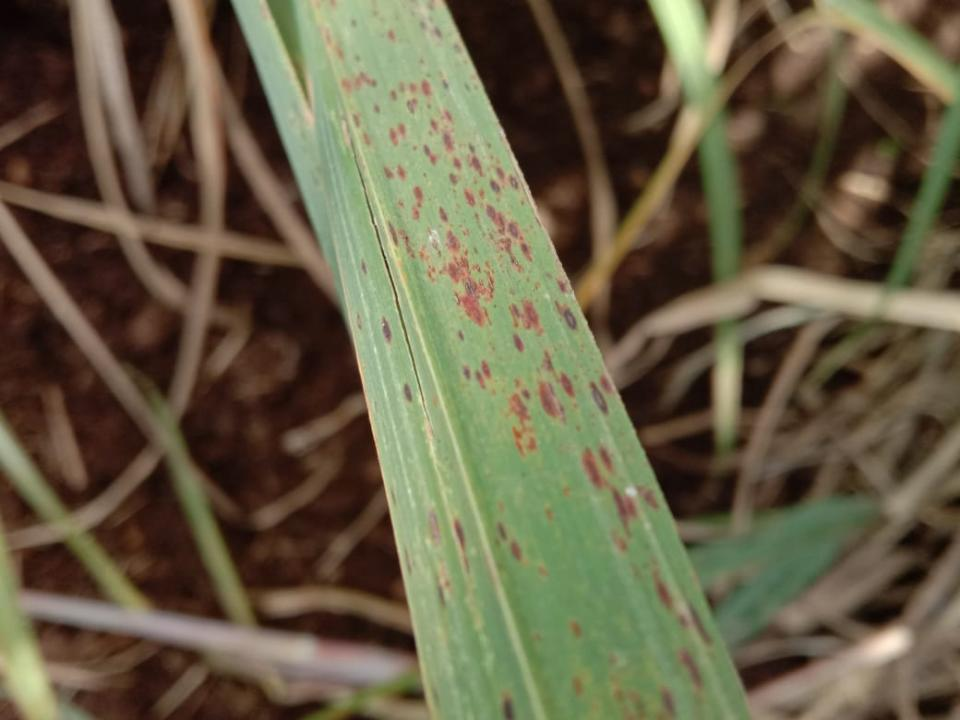Rust: (349, 72, 623, 462), (568, 551, 723, 719), (579, 436, 668, 560), (409, 11, 483, 96), (489, 512, 530, 573), (451, 503, 477, 582), (329, 66, 384, 99), (428, 572, 458, 614), (495, 683, 526, 719), (378, 310, 400, 349), (321, 29, 347, 62), (563, 615, 591, 643), (535, 552, 557, 580), (399, 377, 420, 406), (354, 253, 376, 275), (538, 502, 561, 523), (380, 28, 401, 48), (349, 19, 359, 31), (418, 57, 426, 67)
